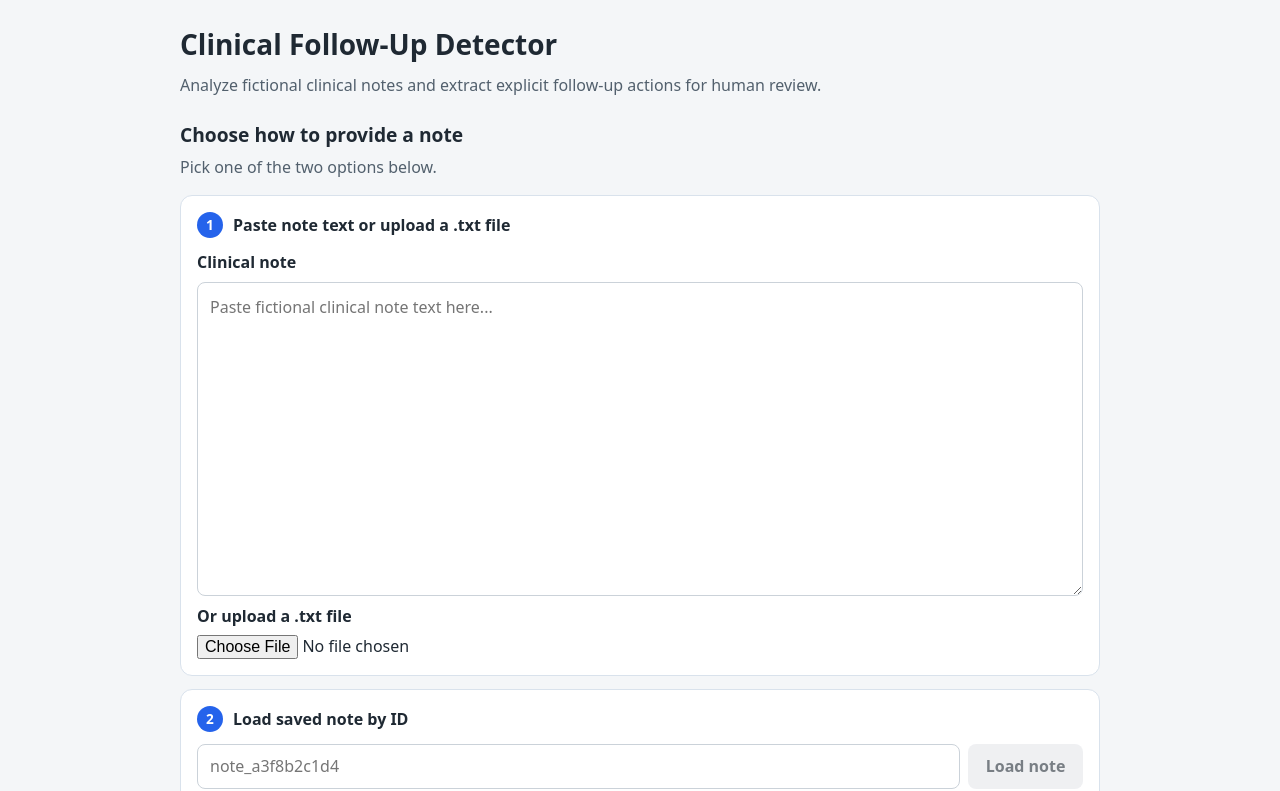
Test: analyze flow › renders successful actions
Type "The patient should repeat a CBC within seven days." into the text box labelled "Clinical note" at (640, 439), box x1=197 y1=282 x2=1083 y2=596
(page scrolled)
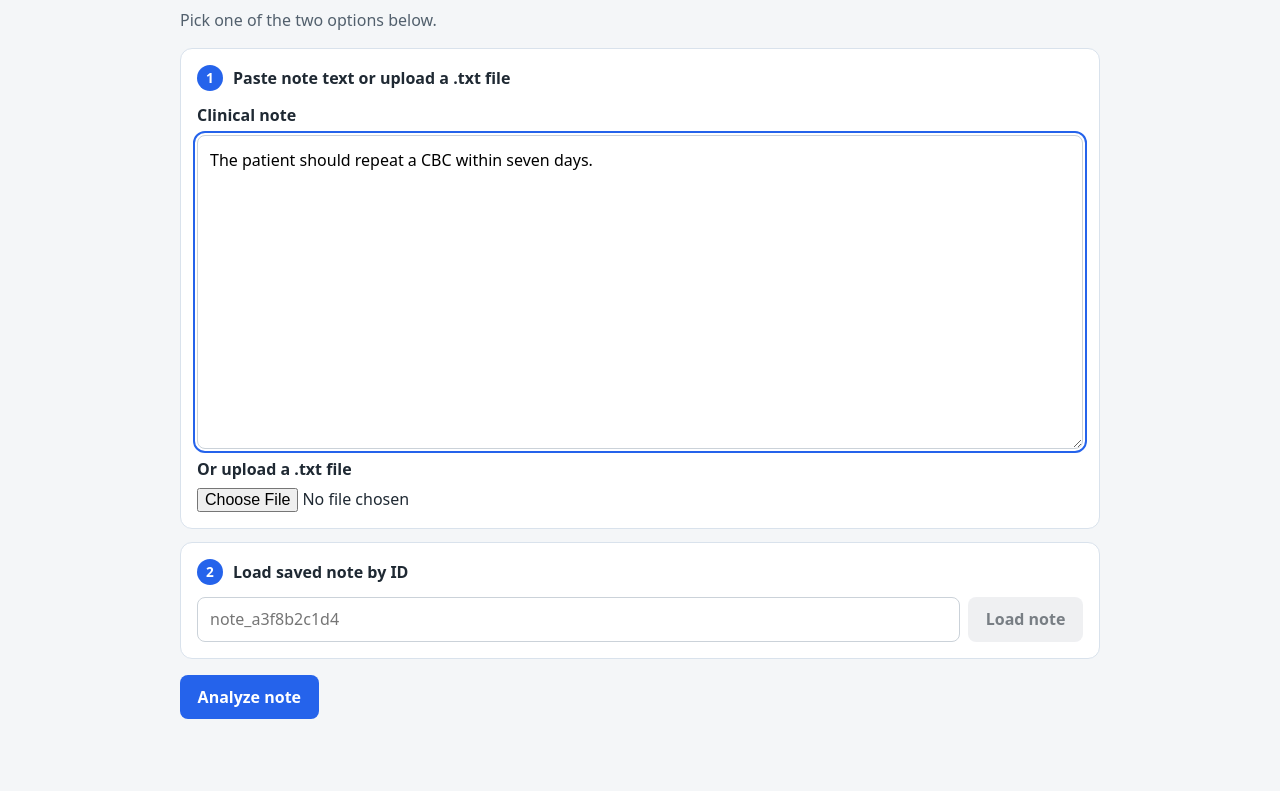
Click the button "Analyze note" at (249, 697), box x1=180 y1=674 x2=319 y2=719
(page scrolled)
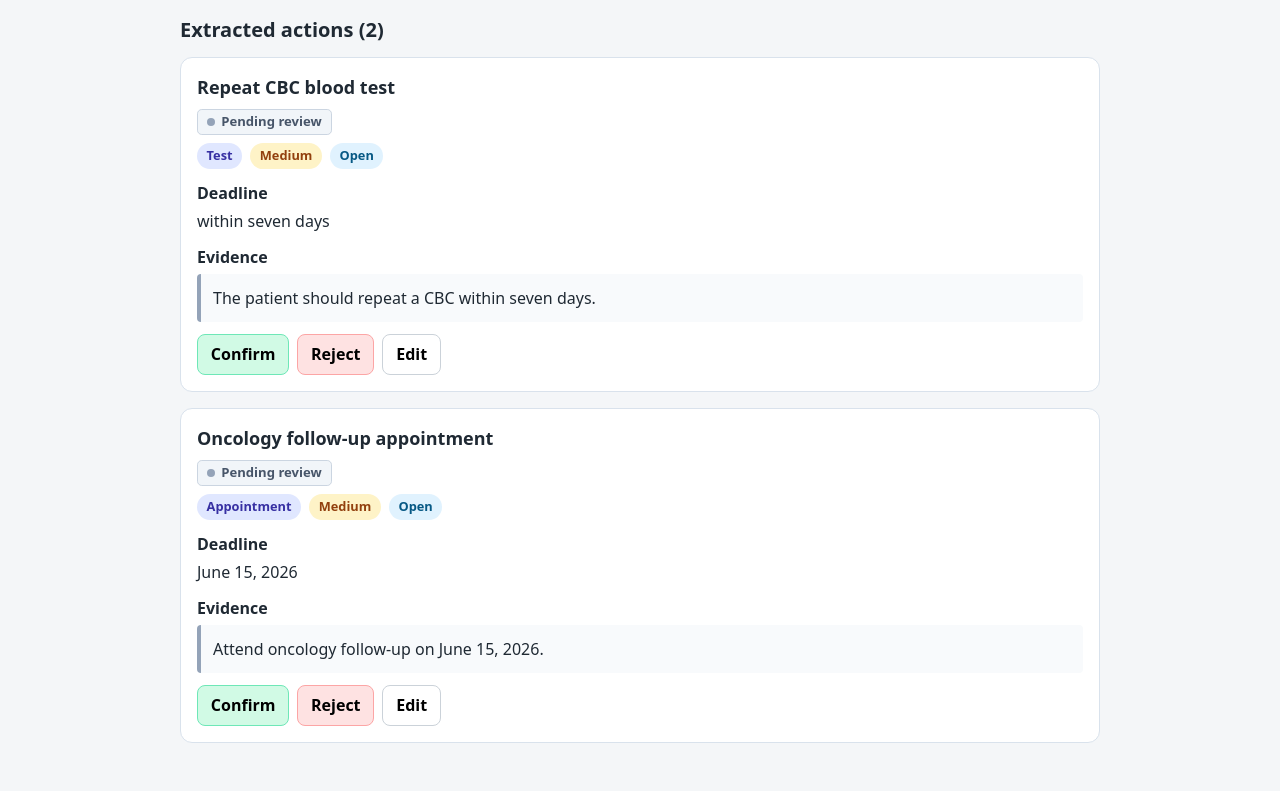
Expected: the heading "Repeat CBC blood test" is shown, x1=197 y1=74 x2=395 y2=100
Expected: the heading "Oncology follow-up appointment" is shown, x1=197 y1=424 x2=493 y2=452
Expected: the text "within seven days" is shown, x1=197 y1=210 x2=330 y2=232
